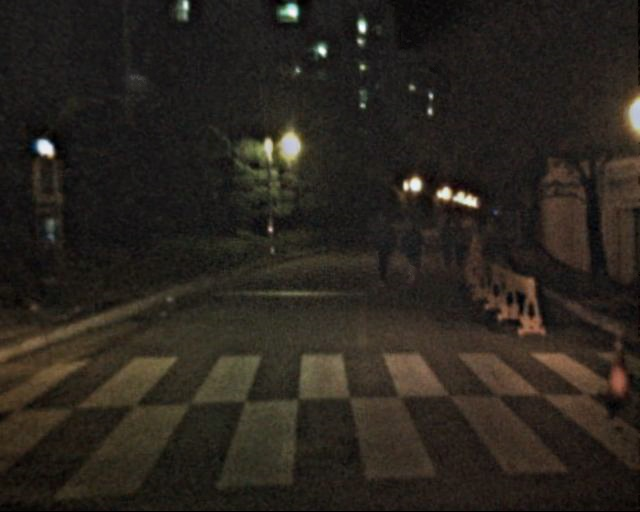person: (394, 212, 426, 290), (365, 209, 397, 286), (435, 212, 460, 272), (447, 214, 470, 270)
